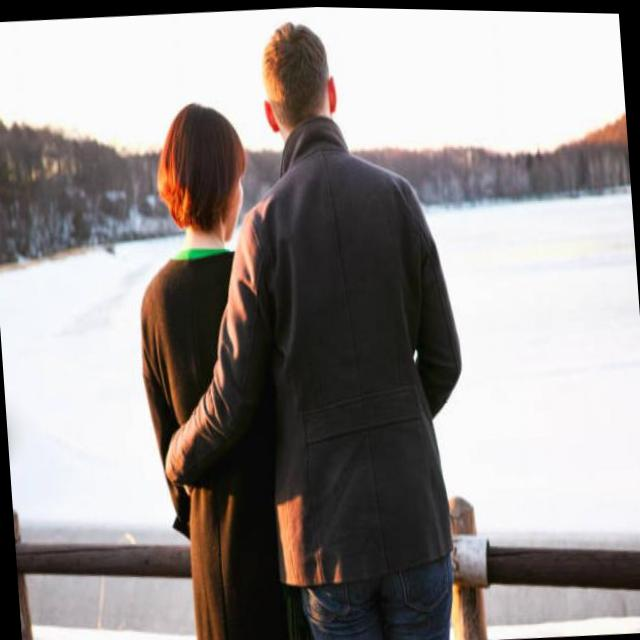no helmet: (146, 82, 262, 271), (247, 37, 335, 127)
